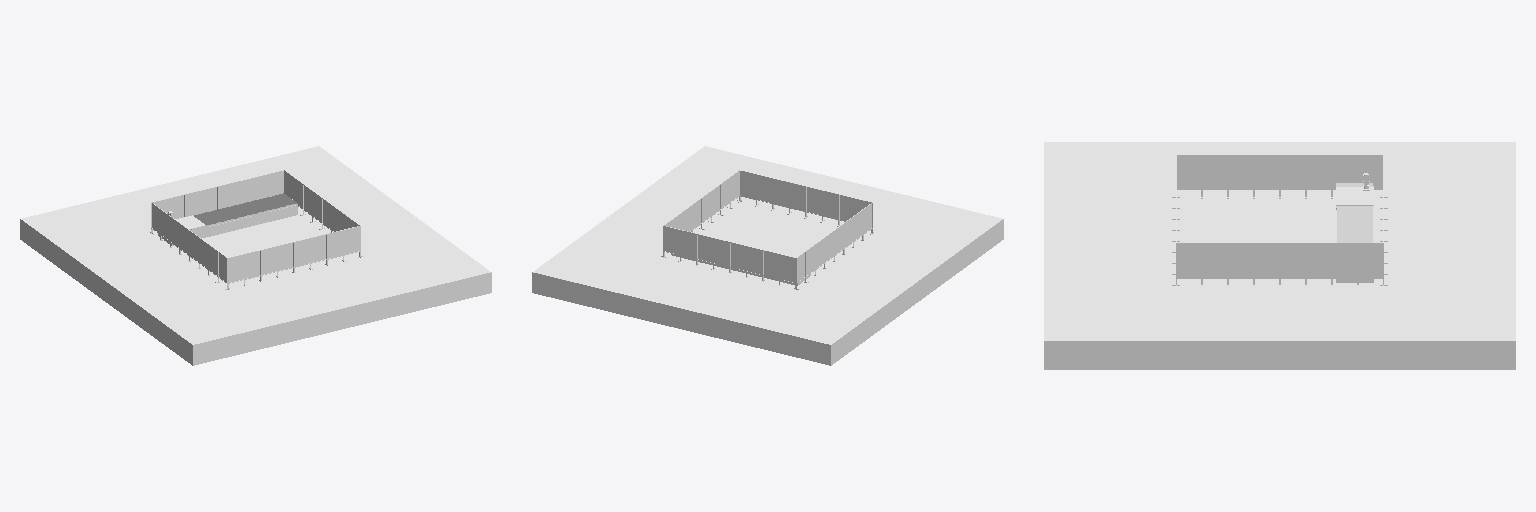
robot.urdf — rccn_west_robot:
<?xml version="1.0" ?>
<!-- =================================================================================== -->
<!-- |    This document was autogenerated by xacro from rccn_west_robot.xacro          | -->
<!-- |    EDITING THIS FILE BY HAND IS NOT RECOMMENDED                                 | -->
<!-- =================================================================================== -->
<robot name="rccn_west_robot">
  <link name="kuka_robot_cell_world">
    <visual>
      <geometry>
        <mesh filename="package://rccn_kuka_robot_cell/meshes/world/visual/robot_cell_fixture.stl"/>
      </geometry>
      <material name="">
        <color rgba="1.0 1.0 1.0 1.0"/>
      </material>
    </visual>
    <collision>
      <geometry>
        <mesh filename="package://rccn_kuka_robot_cell/meshes/world/collision/robot_cell_fixture.stl"/>
      </geometry>
    </collision>
  </link>
  <link name="west_e1_rail">
    <visual>
      <geometry>
        <mesh filename="package://rccn_kuka_robot_cell/meshes/rail/visual/west_rail.stl"/>
      </geometry>
      <material name="">
        <color rgba="1.0 1.0 1.0 1.0"/>
      </material>
    </visual>
    <collision>
      <geometry>
        <mesh filename="package://rccn_kuka_robot_cell/meshes/rail/collision/west_rail.stl"/>
      </geometry>
    </collision>
  </link>
  <joint name="west_joint_e1" type="prismatic">
    <parent link="west_e1_rail"/>
    <child link="west_e1_plate"/>
    <!-- Here we enter the joint position just defined before -->
    <origin rpy="0.00000000 0.00000000 0.00000000" xyz="0.00000000 0.00000000 0.00000000"/>
    <!-- Here we define the axis along which the geometry is moved -->
    <axis xyz="1 0 0"/>
    <!-- Here we define the joint's upper and lower limits -->
    <limit effort="1000.0" lower="0.0" upper="4.266" velocity="0.25"/>
  </joint>
  <link name="west_e1_plate">
    <visual>
      <geometry>
        <mesh filename="package://rccn_kuka_robot_cell/meshes/rail/visual/west_plate.stl"/>
      </geometry>
      <material name="">
        <color rgba="1.0 1.0 1.0 1.0"/>
      </material>
    </visual>
    <collision>
      <geometry>
        <mesh filename="package://rccn_kuka_robot_cell/meshes/rail/collision/west_plate.stl"/>
      </geometry>
    </collision>
  </link>
  <joint name="west_attachment_joint" type="fixed">
    <parent link="west_e1_plate"/>
    <child link="west_base_link"/>
    <origin rpy="0.00000184 0.00009015 0.00206101" xyz="-0.00043000 -0.00044000 -0.00000000"/>
  </joint>
  <!-- LINKS -->
  <!-- base link -->
  <link name="west_base_link">
    <inertial>
      <origin rpy="0 0 0" xyz="0 0 0"/>
      <mass value="2"/>
      <inertia ixx="0.01" ixy="0" ixz="0" iyy="0.01" iyz="0" izz="0.01"/>
    </inertial>
    <visual>
      <origin rpy="0 0 0" xyz="0 0 0"/>
      <geometry>
        <mesh filename="package://kuka_kr300_support/meshes/kr300r2500ultra/visual/base_link.stl"/>
      </geometry>
      <material name="">
        <color rgba="1.0 1.0 1.0 1.0"/>
      </material>
    </visual>
    <collision>
      <origin rpy="0 0 0" xyz="0 0 0"/>
      <geometry>
        <mesh filename="package://kuka_kr300_support/meshes/kr300r2500ultra/collision/base_link.stl" scale="0.001 0.001 0.001"/>
      </geometry>
    </collision>
  </link>
  <!-- link 1 (A1) -->
  <link name="west_link_1">
    <inertial>
      <origin rpy="0 0 0" xyz="0 0 0"/>
      <mass value="2"/>
      <inertia ixx="0.01" ixy="0" ixz="0" iyy="0.01" iyz="0" izz="0.01"/>
    </inertial>
    <visual>
      <origin rpy="0 0 0" xyz="0 0 0"/>
      <geometry>
        <mesh filename="package://kuka_kr300_support/meshes/kr300r2500ultra/visual/link_1.stl"/>
      </geometry>
      <material name="">
        <color rgba="1.0 1.0 1.0 1.0"/>
      </material>
    </visual>
    <collision>
      <origin rpy="0 0 0" xyz="0 0 0"/>
      <geometry>
        <mesh filename="package://kuka_kr300_support/meshes/kr300r2500ultra/collision/link_1.stl" scale="0.001 0.001 0.001"/>
      </geometry>
    </collision>
  </link>
  <!-- link 2 -->
  <link name="west_link_2">
    <inertial>
      <origin rpy="0 0 0" xyz="0 0 0"/>
      <mass value="2"/>
      <inertia ixx="0.01" ixy="0" ixz="0" iyy="0.01" iyz="0" izz="0.01"/>
    </inertial>
    <visual>
      <origin rpy="0 0 0" xyz="0 0 0"/>
      <geometry>
        <mesh filename="package://kuka_kr300_support/meshes/kr300r2500ultra/visual/link_2.stl"/>
      </geometry>
      <material name="">
        <color rgba="1.0 1.0 1.0 1.0"/>
      </material>
    </visual>
    <collision>
      <origin rpy="0 0 0" xyz="0 0 0"/>
      <geometry>
        <mesh filename="package://kuka_kr300_support/meshes/kr300r2500ultra/collision/link_2.stl" scale="0.001 0.001 0.001"/>
      </geometry>
    </collision>
  </link>
  <!-- link 3 -->
  <link name="west_link_3">
    <inertial>
      <origin rpy="0 0 0" xyz="0 0 0"/>
      <mass value="2"/>
      <inertia ixx="0.01" ixy="0" ixz="0" iyy="0.01" iyz="0" izz="0.01"/>
    </inertial>
    <visual>
      <origin rpy="0 0 0" xyz="0 0 0"/>
      <geometry>
        <mesh filename="package://kuka_kr300_support/meshes/kr300r2500ultra/visual/link_3.stl"/>
      </geometry>
      <material name="">
        <color rgba="1.0 1.0 1.0 1.0"/>
      </material>
    </visual>
    <collision>
      <origin rpy="0 0 0" xyz="0 0 0"/>
      <geometry>
        <mesh filename="package://kuka_kr300_support/meshes/kr300r2500ultra/collision/link_3.stl" scale="0.001 0.001 0.001"/>
      </geometry>
    </collision>
  </link>
  <!-- link 4 -->
  <link name="west_link_4">
    <inertial>
      <origin rpy="0 0 0" xyz="0 0 0"/>
      <mass value="2"/>
      <inertia ixx="0.01" ixy="0" ixz="0" iyy="0.01" iyz="0" izz="0.01"/>
    </inertial>
    <visual>
      <origin rpy="0 0 0" xyz="0 0 0"/>
      <geometry>
        <mesh filename="package://kuka_kr300_support/meshes/kr300r2500ultra/visual/link_4.stl"/>
      </geometry>
      <material name="">
        <color rgba="1.0 1.0 1.0 1.0"/>
      </material>
    </visual>
    <collision>
      <origin rpy="0 0 0" xyz="0 0 0"/>
      <geometry>
        <mesh filename="package://kuka_kr300_support/meshes/kr300r2500ultra/collision/link_4.stl" scale="0.001 0.001 0.001"/>
      </geometry>
    </collision>
  </link>
  <!-- link 5 -->
  <link name="west_link_5">
    <inertial>
      <origin rpy="0 0 0" xyz="0 0 0"/>
      <mass value="2"/>
      <inertia ixx="0.01" ixy="0" ixz="0" iyy="0.01" iyz="0" izz="0.01"/>
    </inertial>
    <visual>
      <origin rpy="0 0 0" xyz="0 0 0"/>
      <geometry>
        <mesh filename="package://kuka_kr300_support/meshes/kr300r2500ultra/visual/link_5.stl"/>
      </geometry>
      <material name="">
        <color rgba="1.0 1.0 1.0 1.0"/>
      </material>
    </visual>
    <collision>
      <origin rpy="0 0 0" xyz="0 0 0"/>
      <geometry>
        <mesh filename="package://kuka_kr300_support/meshes/kr300r2500ultra/collision/link_5.stl" scale="0.001 0.001 0.001"/>
      </geometry>
    </collision>
  </link>
  <!-- link 6 -->
  <link name="west_link_6">
    <inertial>
      <origin rpy="0 0 0" xyz="0 0 0"/>
      <mass value="2"/>
      <inertia ixx="0.01" ixy="0" ixz="0" iyy="0.01" iyz="0" izz="0.01"/>
    </inertial>
    <visual>
      <origin rpy="0 0 0" xyz="0 0 0"/>
      <geometry>
        <mesh filename="package://kuka_kr300_support/meshes/kr300r2500ultra/visual/link_6.stl"/>
      </geometry>
      <material name="">
        <color rgba="1.0 1.0 1.0 1.0"/>
      </material>
    </visual>
    <collision>
      <origin rpy="0 0 0" xyz="0 0 0"/>
      <geometry>
        <mesh filename="package://kuka_kr300_support/meshes/kr300r2500ultra/collision/link_6.stl" scale="0.001 0.001 0.001"/>
      </geometry>
    </collision>
  </link>
  <!-- tool 0 -->
  <!-- This frame corresponds to the $FLANGE coordinate system in KUKA KRC controllers. -->
  <link name="west_tool0"/>
  <!-- END LINKS -->
  <!-- JOINTS -->
  <!-- joint 1 (A1) -->
  <joint name="west_joint_a1" type="revolute">
    <origin rpy="0 0 0" xyz="0 0 0.675"/>
    <parent link="west_base_link"/>
    <child link="west_link_1"/>
    <axis xyz="0 0 -1"/>
    <limit effort="0" lower="-3.2288591161895095" upper="3.2288591161895095" velocity="2.722713633111154"/>
  </joint>
  <!-- joint 2 (A2) -->
  <joint name="west_joint_a2" type="revolute">
    <origin rpy="0 0 0" xyz="0.35 0 0"/>
    <parent link="west_link_1"/>
    <child link="west_link_2"/>
    <axis xyz="0 1 0"/>
    <limit effort="0" lower="-2.705260340591211" upper="0.6108652381980153" velocity="2.722713633111154"/>
  </joint>
  <!-- joint 3 (A3) -->
  <joint name="west_joint_a3" type="revolute">
    <origin rpy="0 0 0" xyz="1.150 0 0"/>
    <parent link="west_link_2"/>
    <child link="west_link_3"/>
    <axis xyz="0 1 0"/>
    <limit effort="0" lower="-2.2689280275926285" upper="2.6878070480712677" velocity="2.722713633111154"/>
  </joint>
  <!-- joint 4 (A4) -->
  <joint name="west_joint_a4" type="revolute">
    <origin rpy="0 0 0" xyz="1.0 0 -0.041"/>
    <parent link="west_link_3"/>
    <child link="west_link_4"/>
    <axis xyz="-1 0 0"/>
    <limit effort="0" lower="-6.1086523819801535" upper="6.1086523819801535" velocity="5.759586531581287"/>
  </joint>
  <!-- joint 5 (A5) -->
  <joint name="west_joint_a5" type="revolute">
    <origin rpy="0 0 0" xyz="0 0 0"/>
    <parent link="west_link_4"/>
    <child link="west_link_5"/>
    <axis xyz="0 1 0"/>
    <limit effort="0" lower="-2.2689280275926285" upper="2.2689280275926285" velocity="5.759586531581287"/>
  </joint>
  <!-- joint 6 (A6) -->
  <joint name="west_joint_a6" type="revolute">
    <origin rpy="0 0 0" xyz="0 0 0"/>
    <parent link="west_link_5"/>
    <child link="west_link_6"/>
    <axis xyz="-1 0 0"/>
    <limit effort="0" lower="-6.1086523819801535" upper="6.1086523819801535" velocity="10.733774899765127"/>
  </joint>
  <!-- tool frame - fixed frame -->
  <joint name="west_joint_a6-tool0" type="fixed">
    <parent link="west_link_6"/>
    <child link="west_tool0"/>
    <origin rpy="0 1.5707963267948966 0" xyz="0.240 0 0"/>
  </joint>
  <!-- END JOINTS -->
  <!-- ROS base_link to KUKA $ROBROOT coordinate system transform -->
  <link name="west_base"/>
  <joint name="west_base_link-base" type="fixed">
    <origin rpy="0 0 0" xyz="0 0 0"/>
    <parent link="west_base_link"/>
    <child link="west_base"/>
  </joint>
  <joint name="west_world_joint" type="fixed">
    <parent link="kuka_robot_cell_world"/>
    <child link="west_e1_rail"/>
    <origin rpy="0.00000000 0.00000000 0.00316232" xyz="0.03750000 2.40330000 -0.00200000"/>
  </joint>
</robot>

--- Render facts (derived) ---
Views: 3 orthographic renders of the robot side by side, from view 1: azimuth 30°, elevation 25°; view 2: azimuth 150°, elevation 25°; view 3: azimuth 270°, elevation 25°.
Robot: rccn_west_robot — 12 links, 11 joints (6 revolute, 1 prismatic, 4 fixed); root link kuka_robot_cell_world; default pose: all joints at 0.
Visible links, largest first — view 1: kuka_robot_cell_world, west_e1_rail; view 2: kuka_robot_cell_world; view 3: kuka_robot_cell_world, west_e1_rail, west_e1_plate.
Boxes of the visible links, bbox=[...] form: kuka_robot_cell_world: bbox=[20, 146, 491, 365]; west_e1_rail: bbox=[158, 193, 297, 245]; kuka_robot_cell_world: bbox=[532, 146, 1003, 365]; kuka_robot_cell_world: bbox=[1044, 142, 1515, 369]; west_e1_rail: bbox=[1336, 183, 1373, 282]; west_e1_plate: bbox=[1336, 173, 1373, 205].
Bounding box of the posed robot: 15 × 15 × 2.51 m (x, y, z).
3 mesh visuals loaded from 10 distinct referenced files (3 binary STL); not drawn: 7 (reference not matched to a file when rendering).